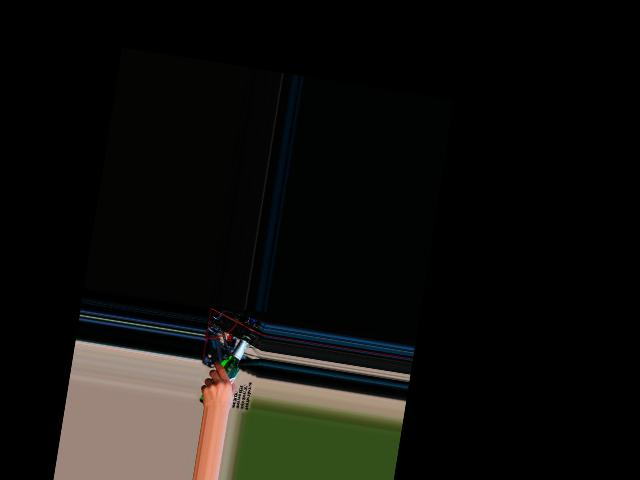beer: (198, 328, 250, 408)
